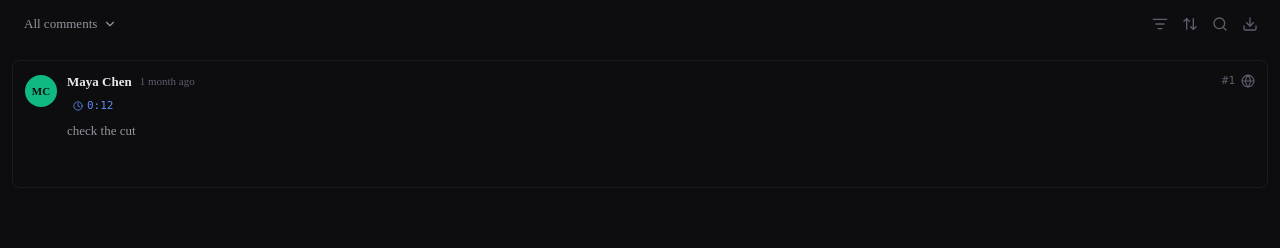
Test: how long an export refusal stays on screen › goes away when the panel is pointed at another asset
The image size is (1280, 248).
Click the button titled "Export comments".
click(1250, 24)  # box [1236,10,1264,38]
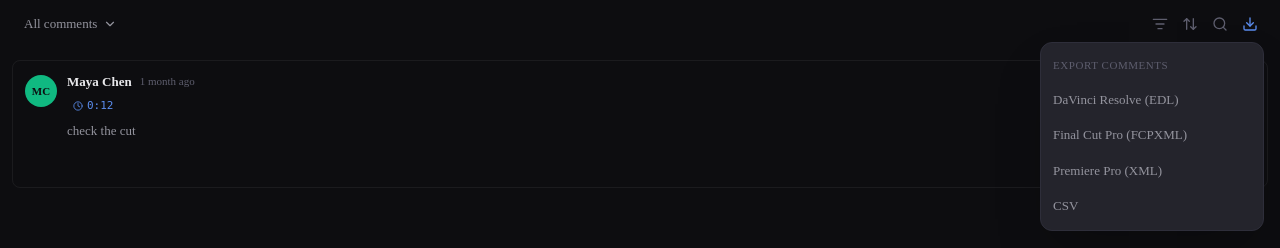
Click the button "DaVinci Resolve (EDL)".
click(1152, 99)  # box [1041,82,1263,117]
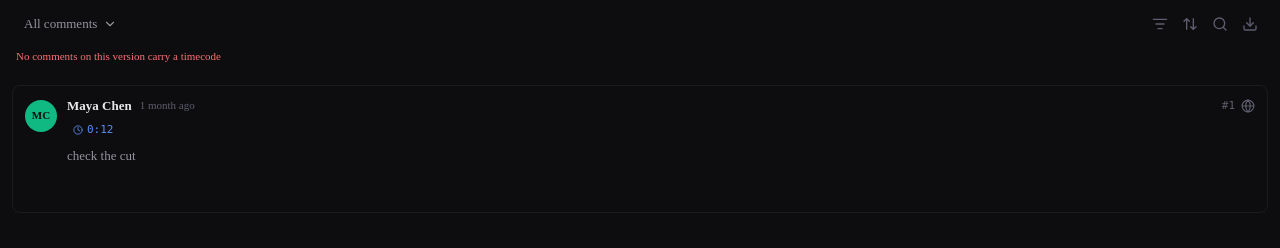
Now the text "No comments on this version carry a timecode" is shown, box [16,50,221,62]
